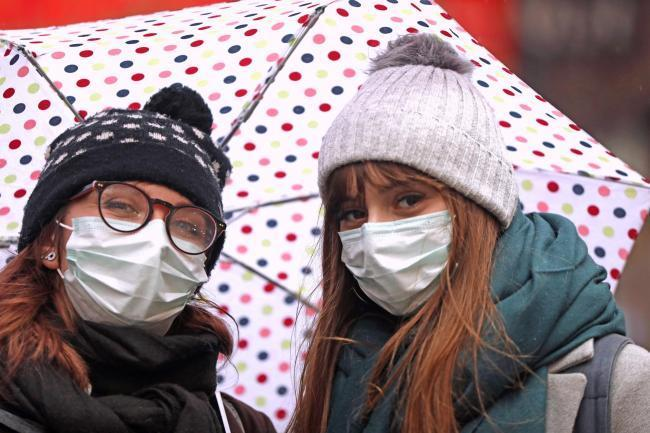with_mask: (80, 180, 215, 309), (338, 181, 446, 294)
